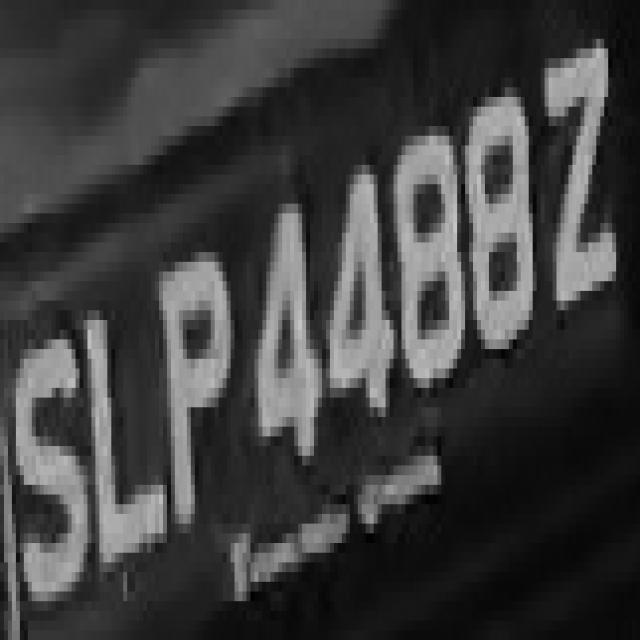4: (302, 116, 390, 485), (231, 165, 322, 475)
8: (445, 68, 545, 368), (382, 97, 461, 427)
L: (79, 282, 163, 562)
P: (143, 242, 239, 562)
S: (8, 291, 91, 611)
Z: (537, 19, 620, 349)
